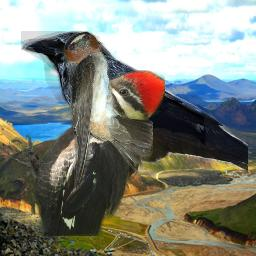Crow: (21, 31, 248, 181)
Swallow: (63, 31, 153, 192)
Woodpecker: (11, 67, 165, 236)
